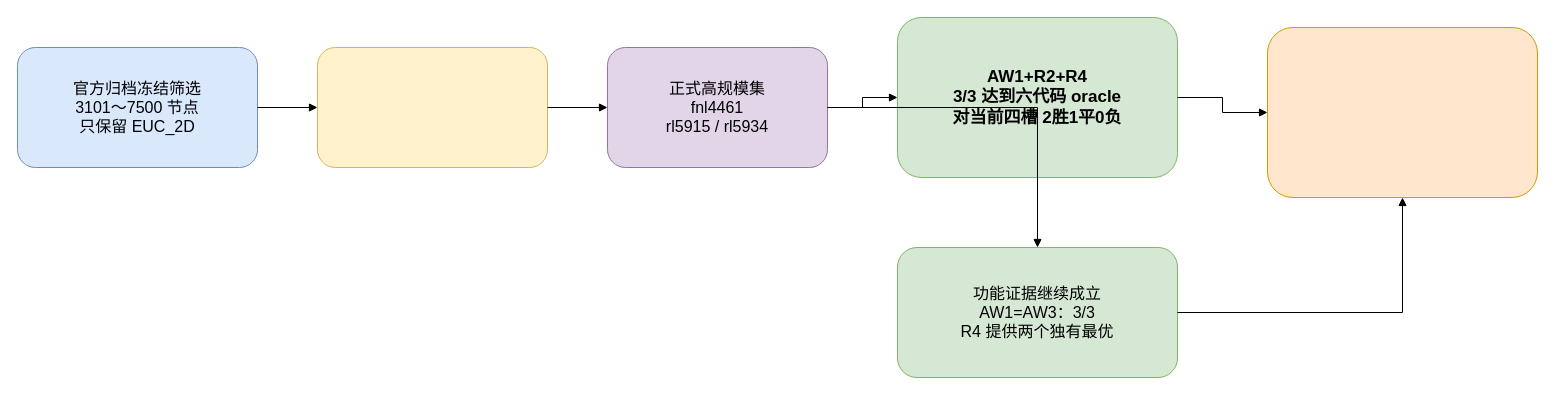
Some shapes in this 1555 by 395 pixel diagram are drawn without their labels. Here are the shapes that lost their labels. From the top down, the box of each, then its label:
(316, 46, 548, 168): 头部校验 pla7397 是 CEIL_2D 运行前排除
(1266, 26, 1538, 198): 决策 高规模支持功能多样三槽 样本仅3，不自动部署 下一步审计源码冗余原因
